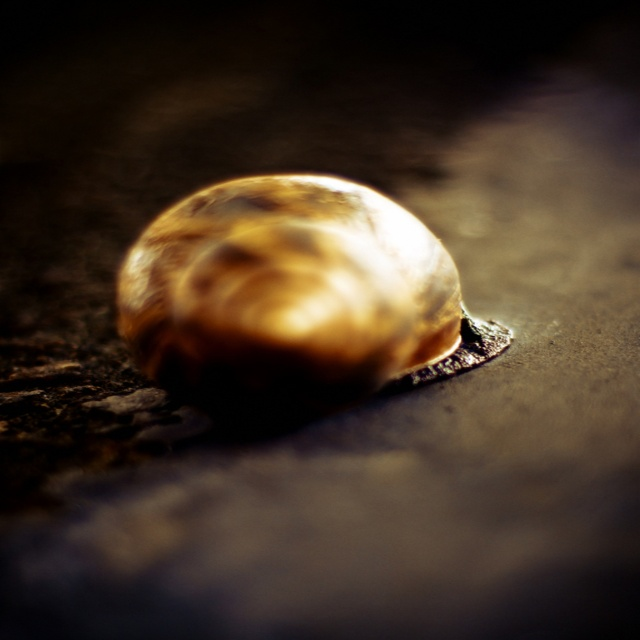Snail: (121, 166, 512, 442)
